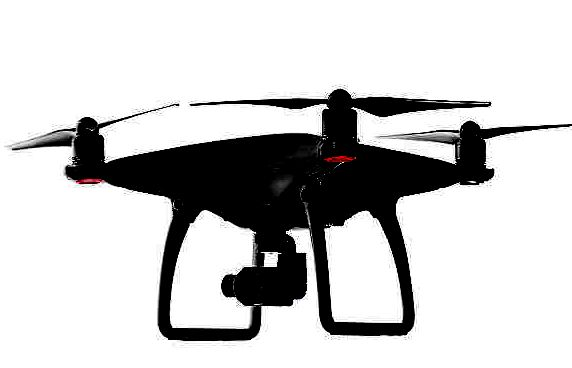Drone: (5, 82, 572, 344)
